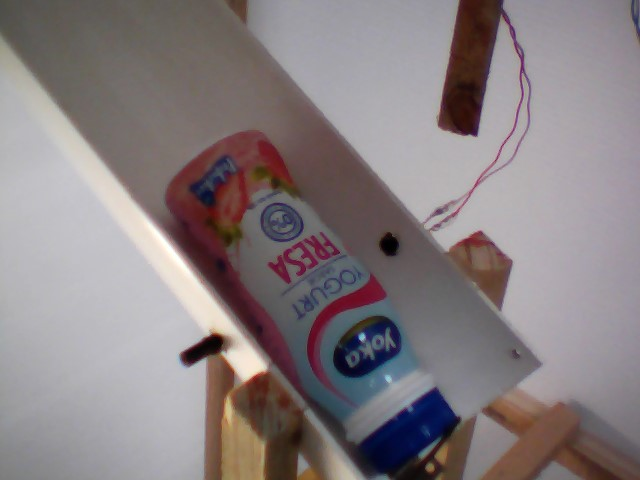plastico: (158, 129, 461, 475)
